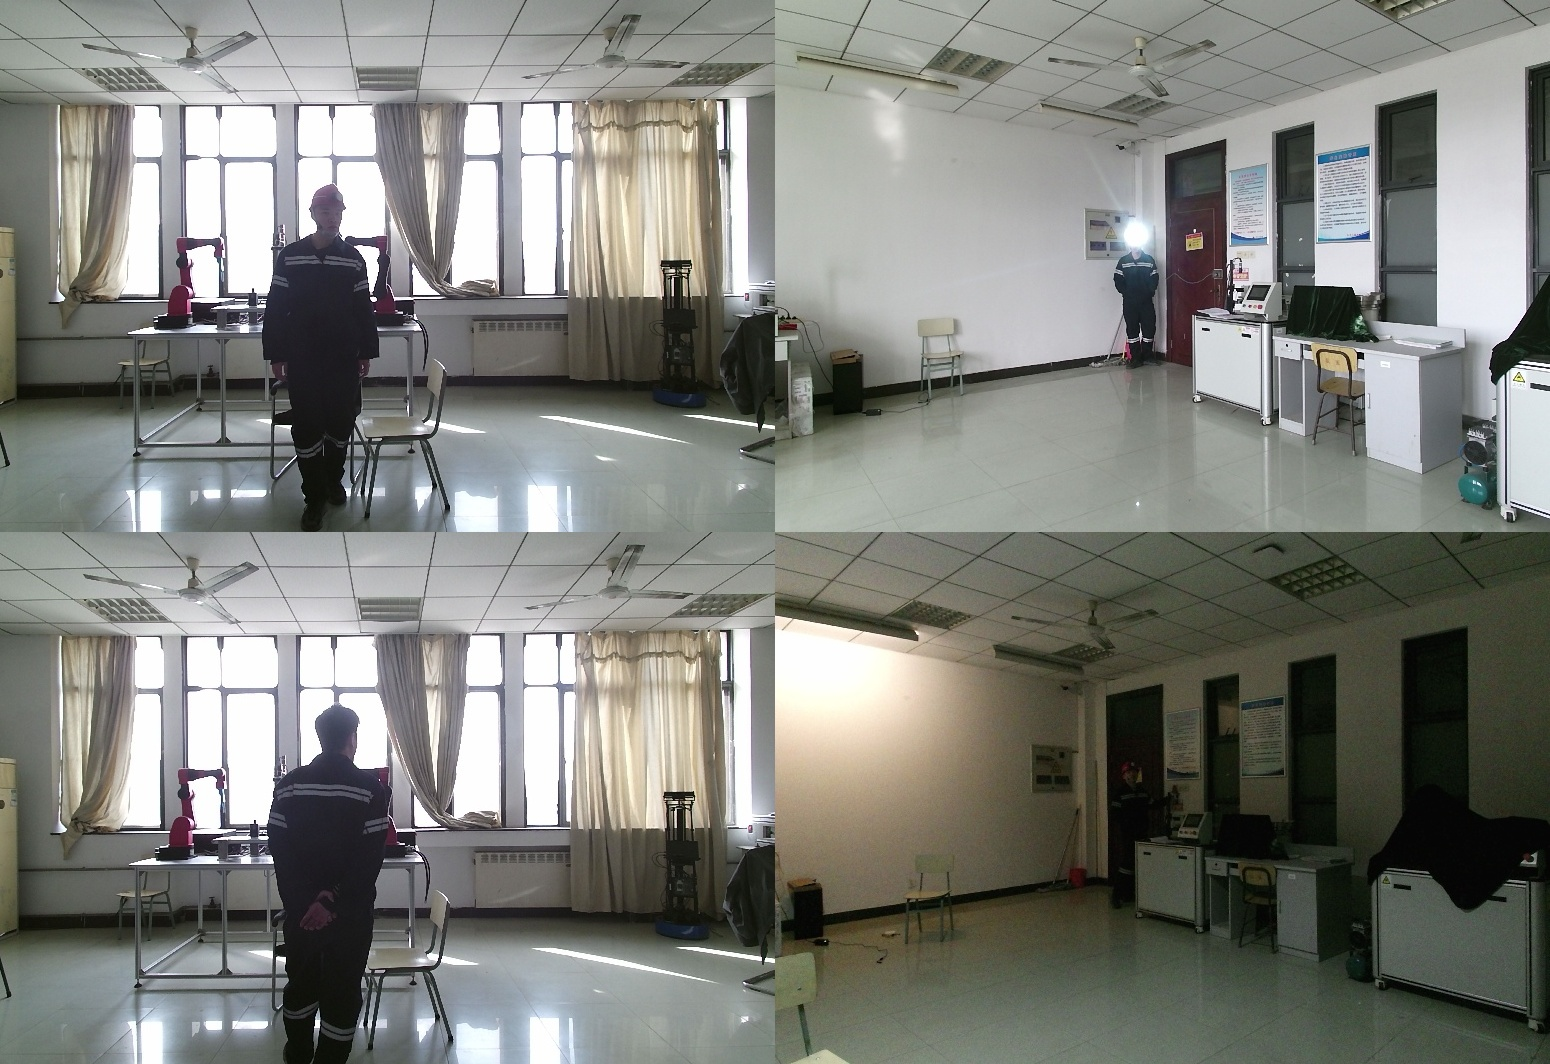person: (265, 705, 413, 1064), (262, 184, 387, 532), (1106, 761, 1169, 913), (1114, 229, 1161, 367)
